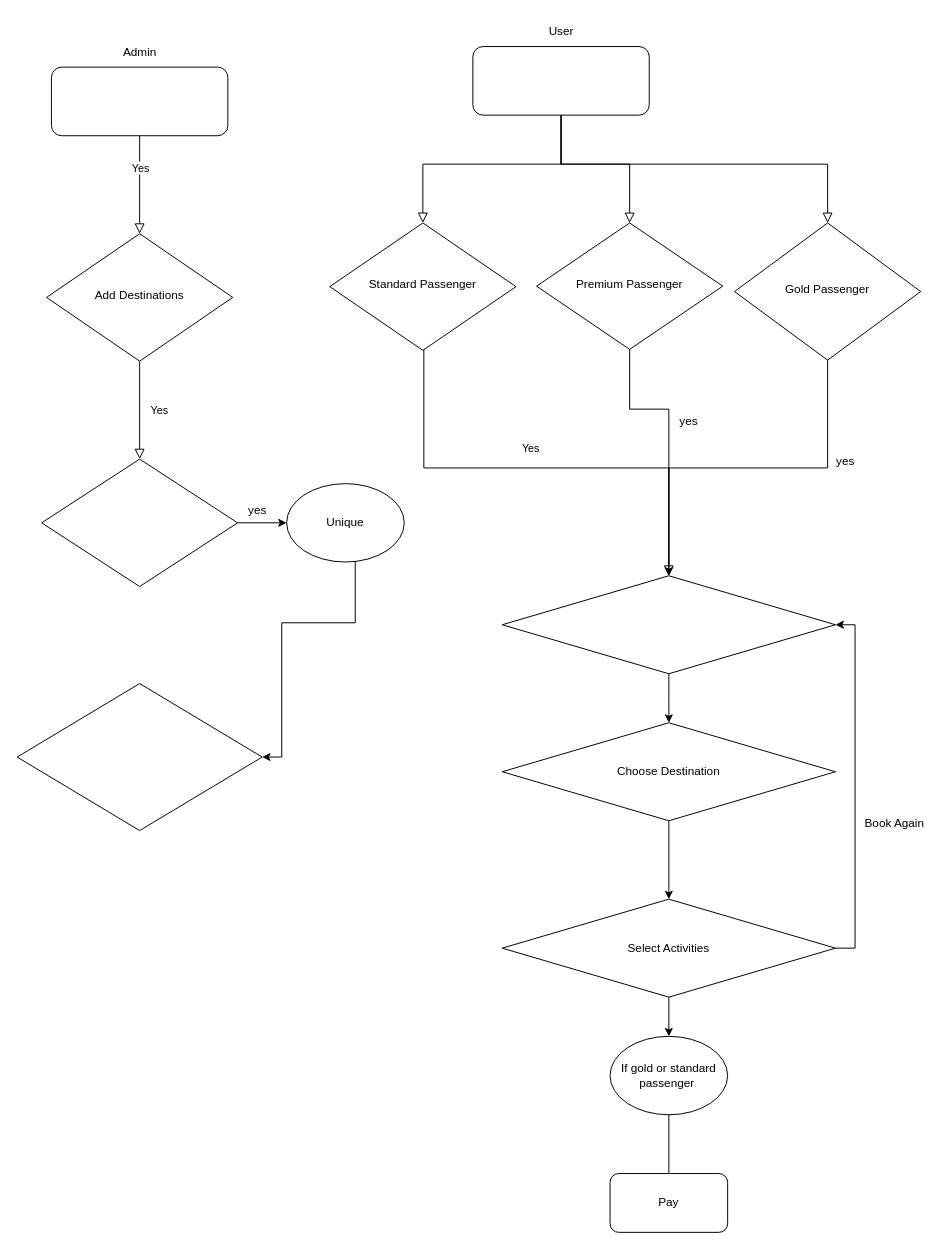
Image size: 951x1250. Some labels were removed from this diagram. The shapes that lost their labels are listed below. From the top down, each one's centre as x and y in pixels, then its label:
At [560,80]: "Create Account".
At [139,101]: "Creates Travel Package".
At [139,522]: "Create activities".
At [668,624]: "Choose Travel package".
At [139,757]: "add activities to destination".
